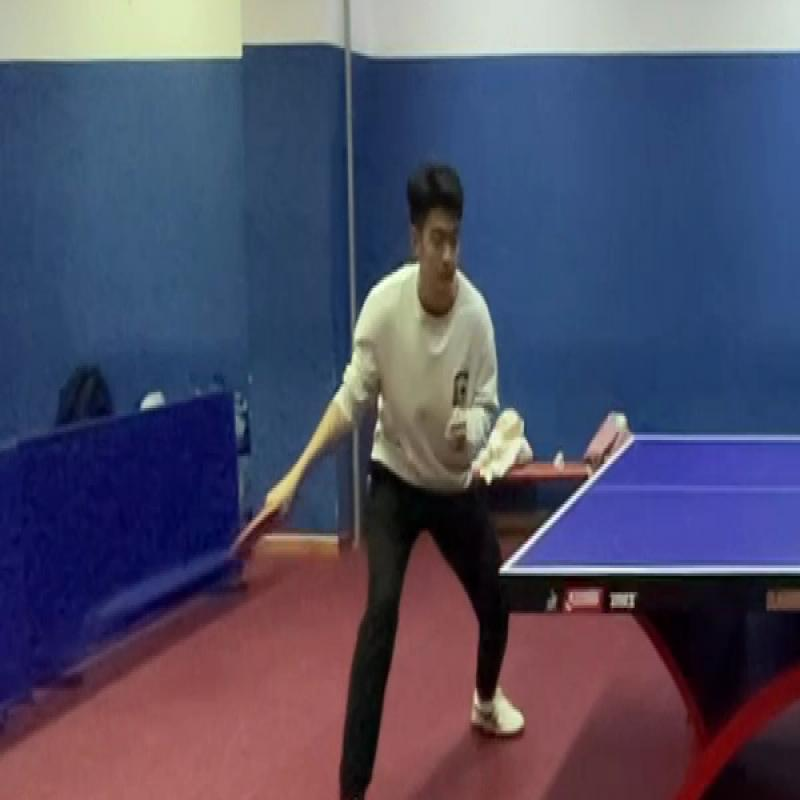bats: (233, 483, 290, 566)
